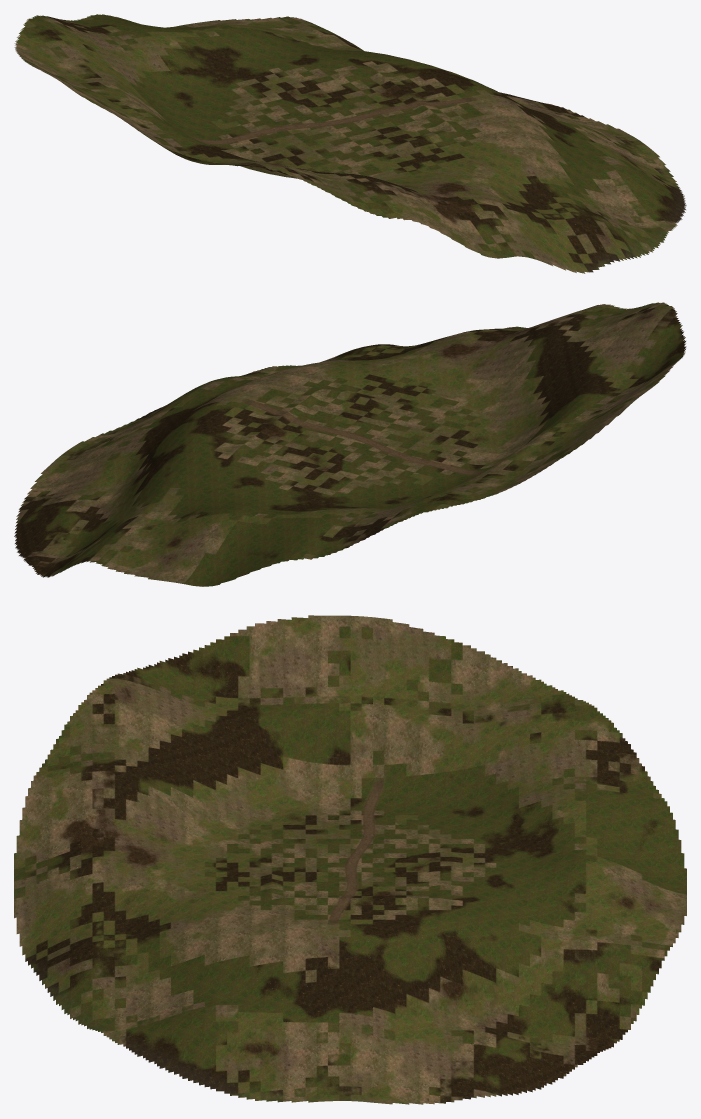
File: felsmulde-boden.glb
The picture shows the model from 3 angles, top to bottom: view 1: azimuth 30°, elevation 25°; view 2: azimuth 150°, elevation 25°; view 3: azimuth 270°, elevation 25°; orthographic projection.
Visible parts, largest first — view 1: Zielboden; view 2: Zielboden; view 3: Zielboden.
Boxes of the visible parts, <box> form: Zielboden: <box>14,14,686,273</box>; Zielboden: <box>14,302,686,586</box>; Zielboden: <box>14,615,686,1104</box>.
Bounding box in the file's own units: 60 × 21.06 × 60.
1 material, 1 textured.
